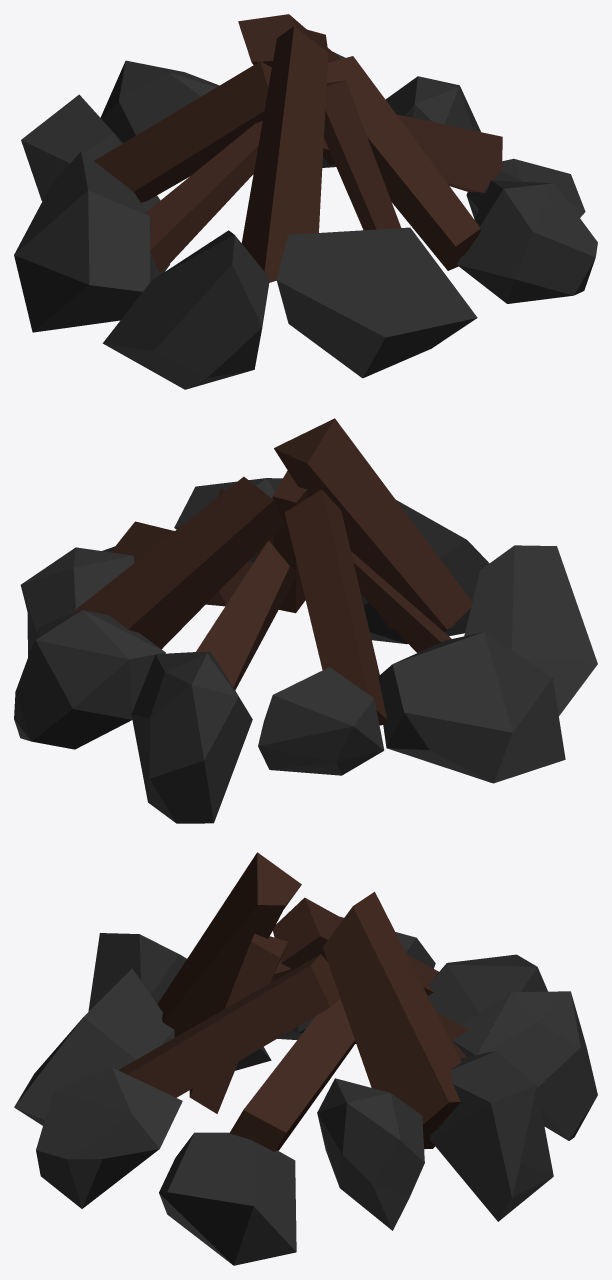
Rendered from Assets - Campfire1.0 .fbx.
3 views of the same model, one above another, from view 1: azimuth 30°, elevation 25°; view 2: azimuth 150°, elevation 25°; view 3: azimuth 270°, elevation 25° (orthographic). The views are drawn at different scales.
Visible parts, largest first — view 1: Stone, Wood; view 2: Stone, Wood; view 3: Stone, Wood.
Part boxes in pixels (box(x1,y1,x2,y2)): Stone: box(14, 52, 597, 389); Wood: box(94, 14, 502, 282); Stone: box(14, 478, 597, 823); Wood: box(69, 418, 472, 725); Stone: box(14, 916, 597, 1265); Wood: box(118, 852, 469, 1151).
Bounding box in the file's own units: 434 × 235 × 416.
